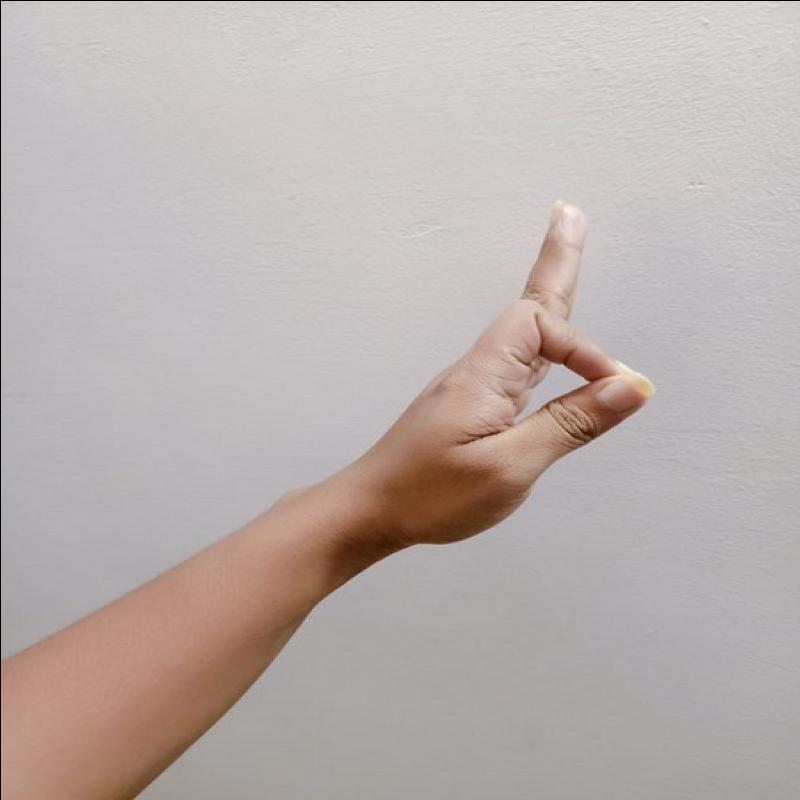Mudraakhyam: (340, 192, 663, 554)
